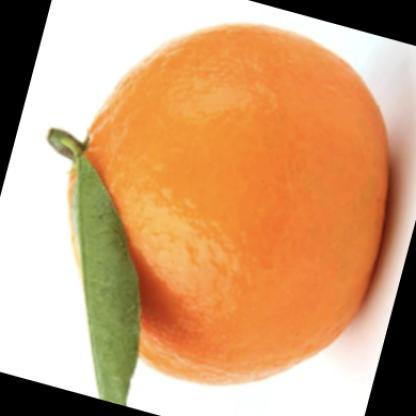fresh: (67, 24, 393, 380)
